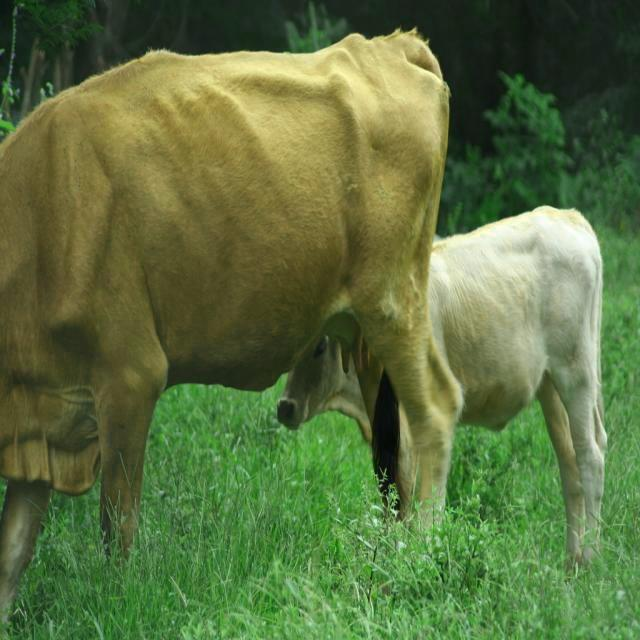cow: (0, 32, 461, 614), (429, 206, 606, 561), (278, 339, 414, 501)
